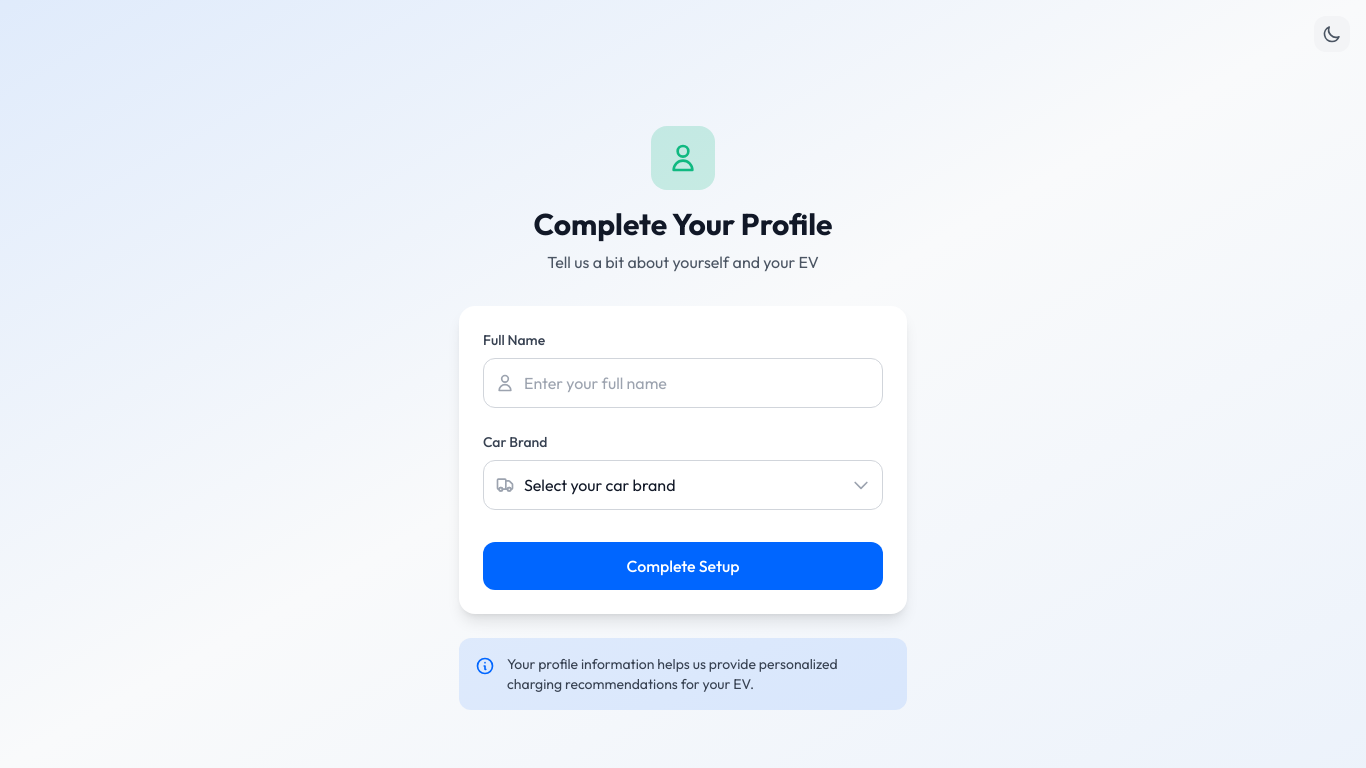
ProfileSetup Component › shows error when name has invalid characters
Type "John123" into the field labelled "Full Name" at point(683, 383), box top-left (483, 358), bottom-right (883, 408)
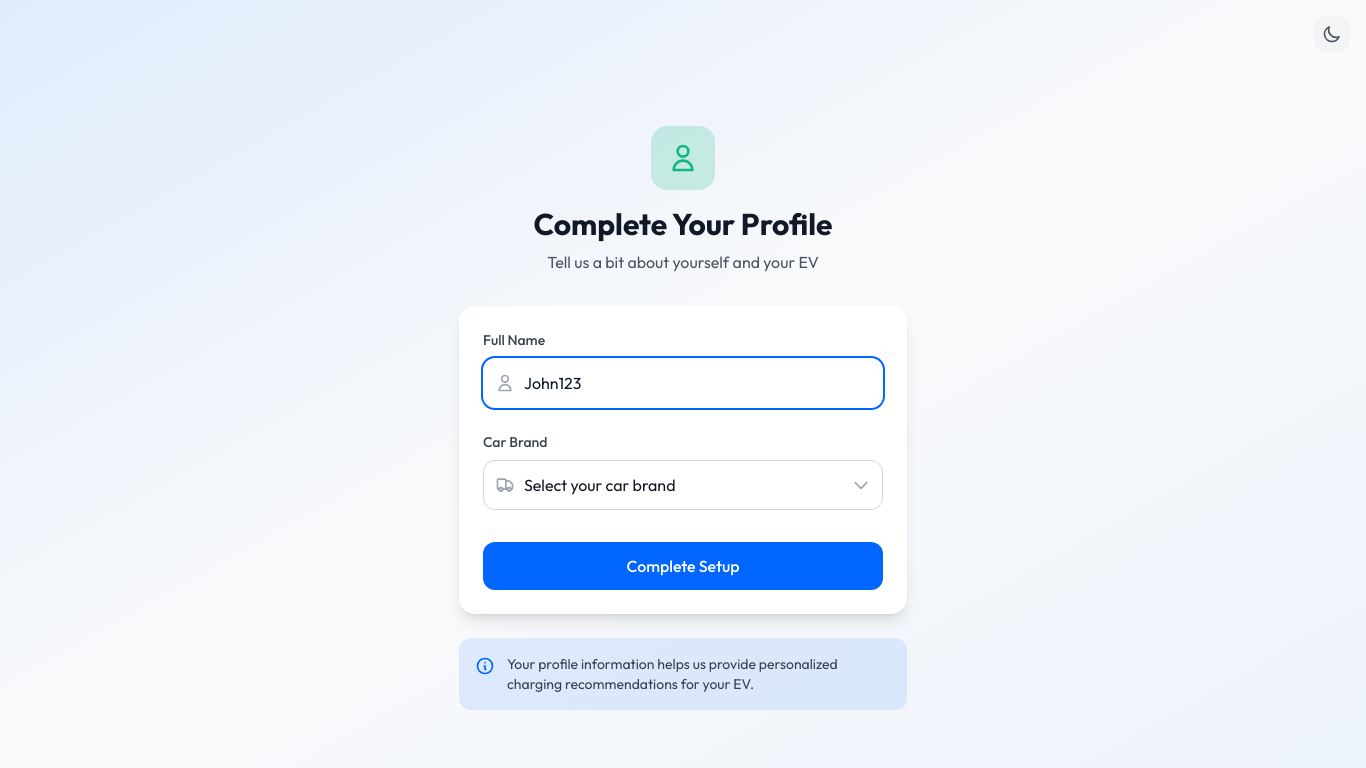
Click the button "Complete Setup" at point(683, 566), box top-left (483, 542), bottom-right (883, 590)
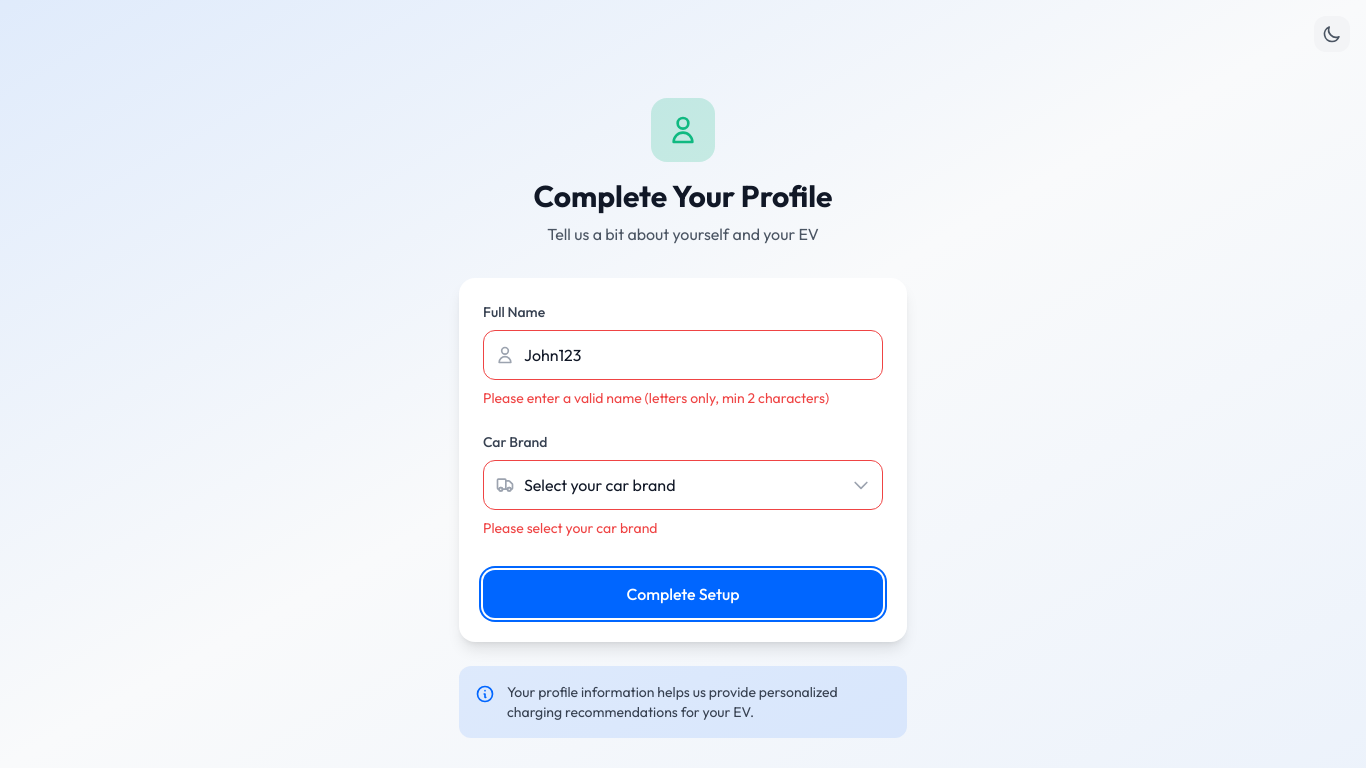
Result: the text "Please enter a valid name (letters only, min 2 characters)" is shown at top-left (483, 388), bottom-right (883, 408)
